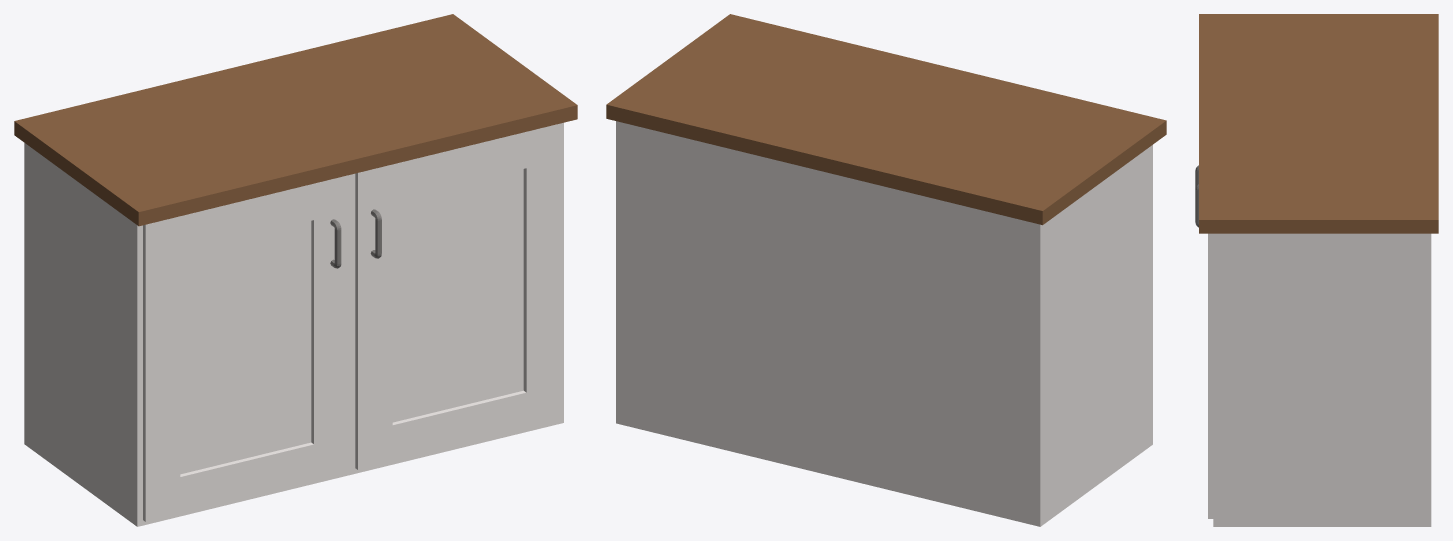
The model's file is Kitchen Tabletop_05.fbx.
3 renders of one model, left to right at view 1: azimuth 30°, elevation 25°; view 2: azimuth 150°, elevation 25°; view 3: azimuth 270°, elevation 25°, orthographic. The views are drawn at different scales.
Parts seen in each view (by area): view 1: Kitchen Tabletop_05; view 2: Kitchen Tabletop_05; view 3: Kitchen Tabletop_05.
Boxes of the visible parts, x1,y1,x2,y2 form: Kitchen Tabletop_05: (14, 14, 577, 526); Kitchen Tabletop_05: (606, 14, 1166, 526); Kitchen Tabletop_05: (1195, 14, 1438, 526).
Bounding box in the file's own units: 127 × 89.04 × 63.33.
